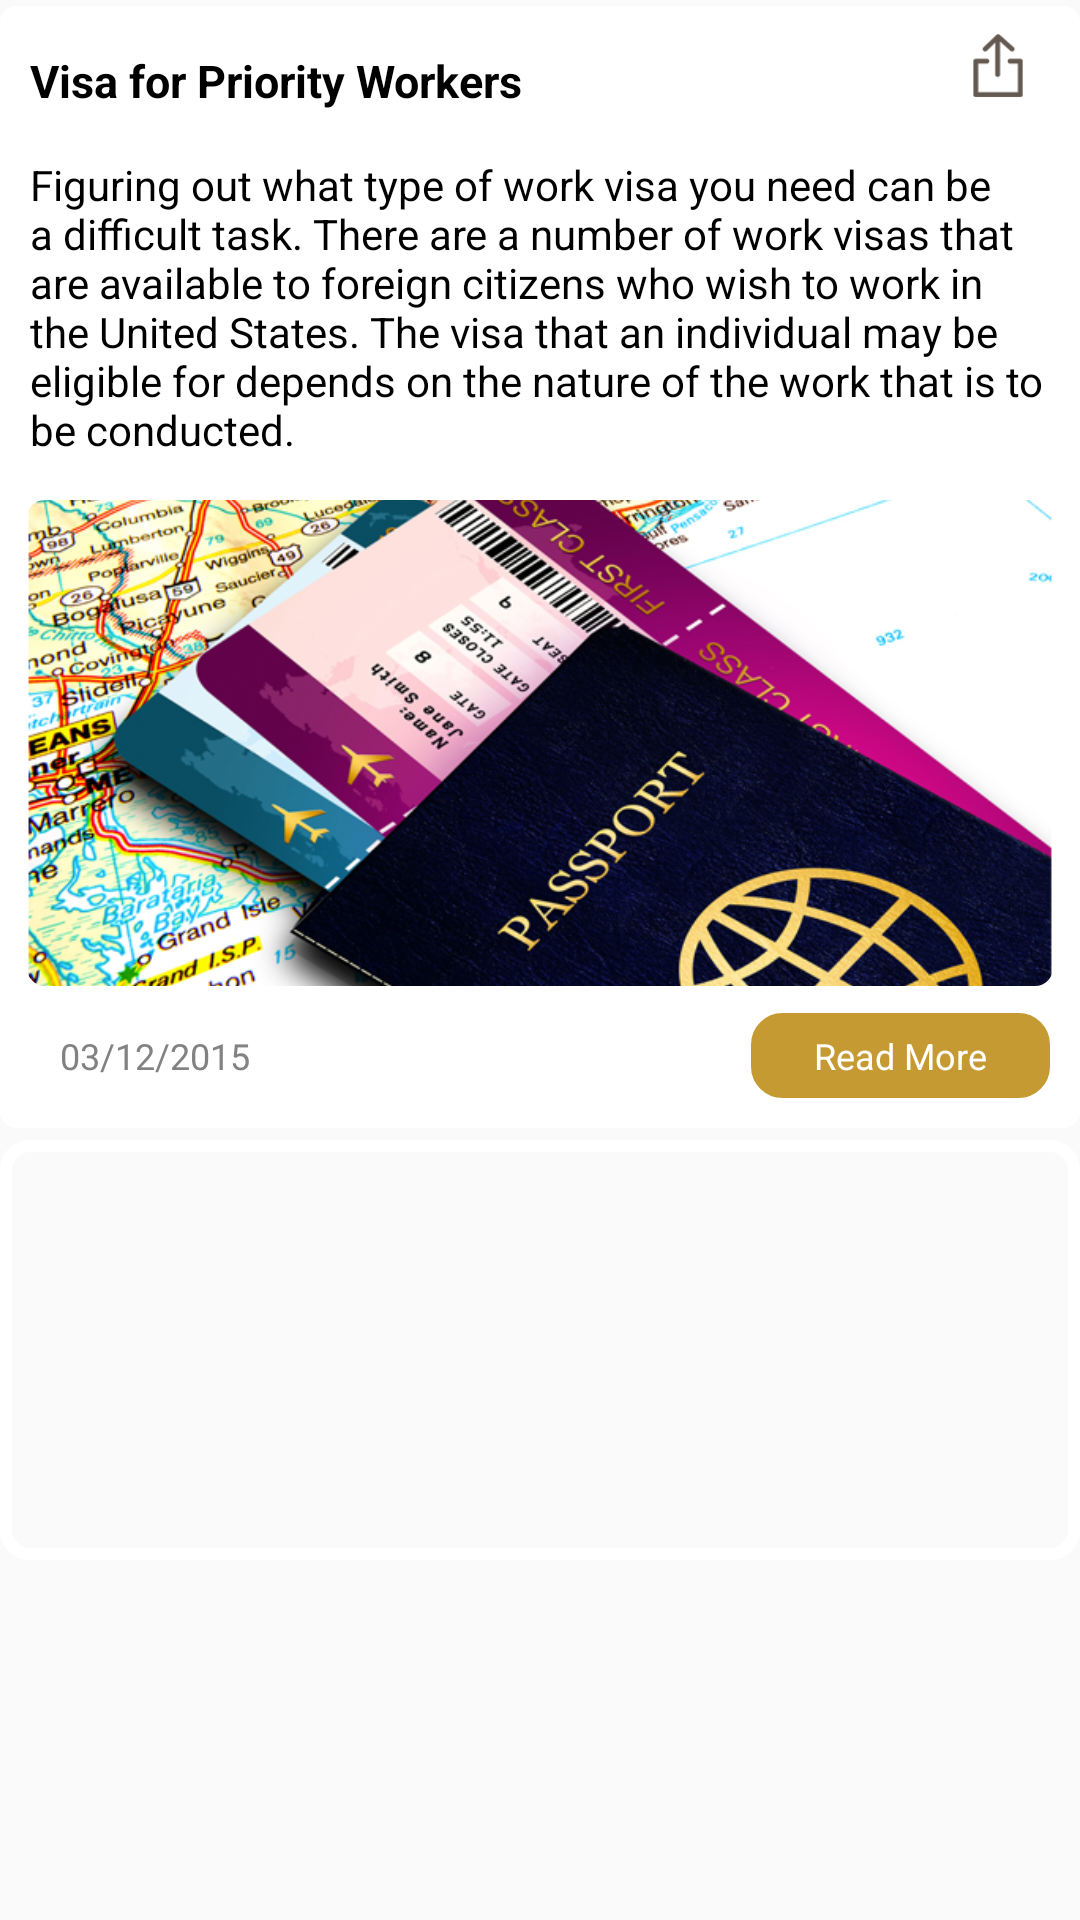

Icon click points for this 1080px x 1920px phone screenshot, format (x=x, y=y):
upload: (x=998, y=65)
